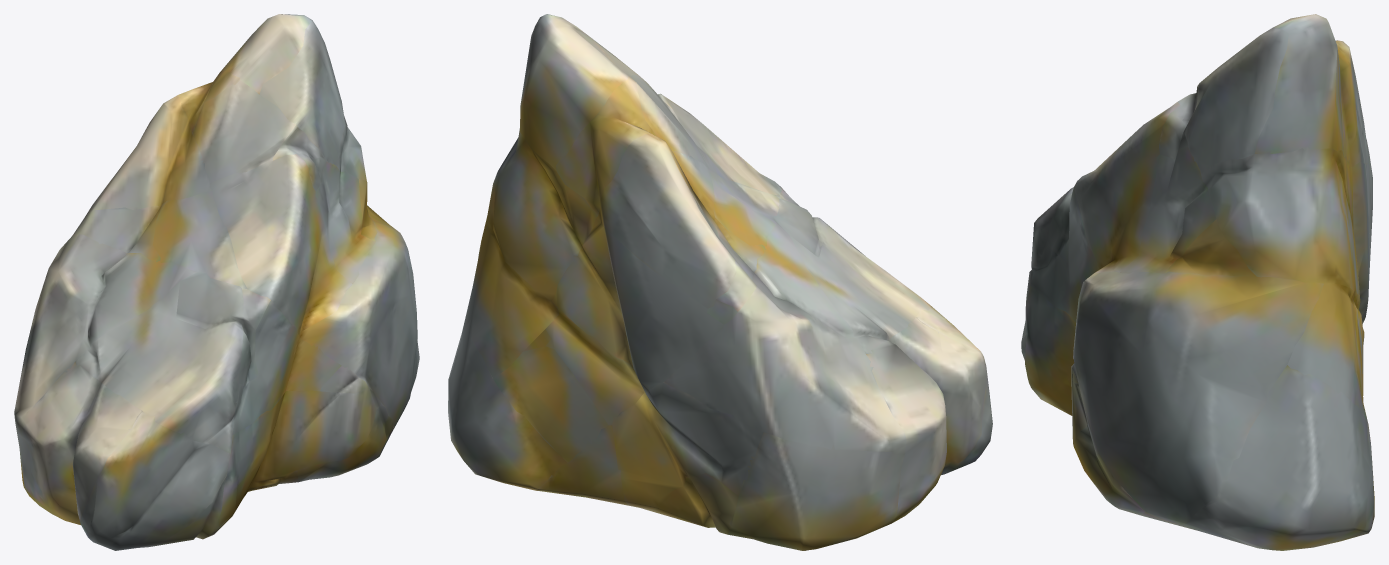
Rendered from rock-shard.glb.
3 renders of one model, left to right at view 1: azimuth 30°, elevation 25°; view 2: azimuth 150°, elevation 25°; view 3: azimuth 270°, elevation 25°, orthographic. The views are drawn at different scales.
Size of the model in its own units: 1.9 by 1.85 by 1.18.
1 material, 1 textured.
